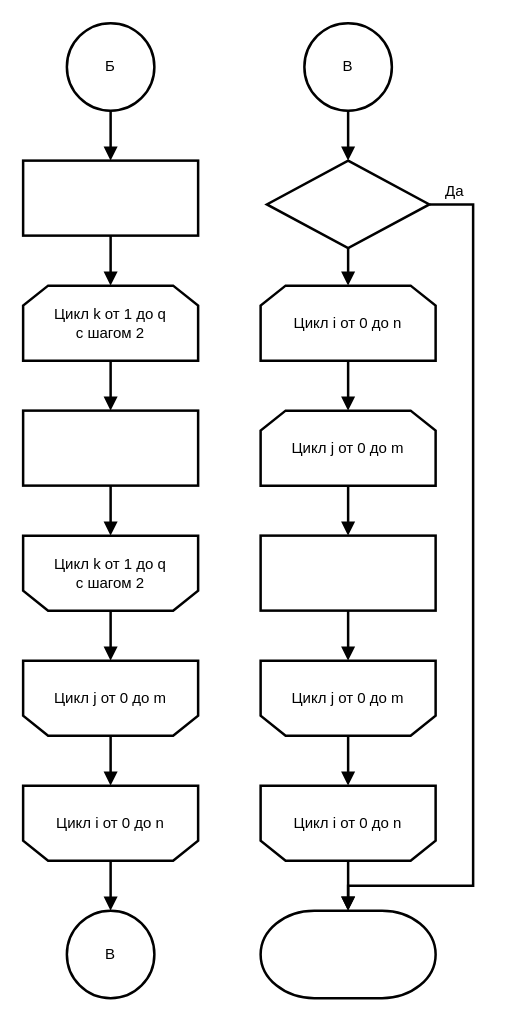
Some shapes in this 505 by 1020 pixel diagram are drawn without their labels. The shapes that lost their labels are listed below. From the top down, each one's centre as x and y in pixels, then its label:
(110,197): C[i][j] = C[i][j] - (tmpA[i] + tmpB[j])
(347,204): q четное?
(110,447): C[i][j] += (A[i][k-1] + B[k][j]) * (A[i][k] + B[k-1][j])
(347,572): C[i][j] += A[i][q-1] * B[q-1][j]
(347,954): Конец
